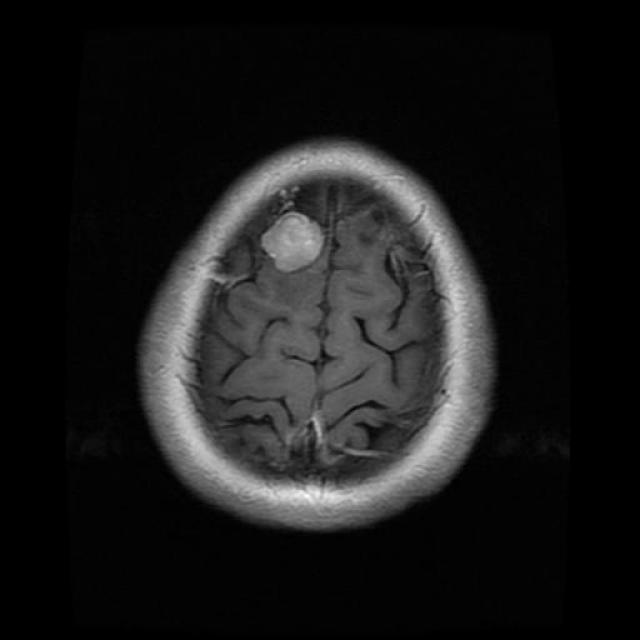Brain-Tumor: (249, 202, 331, 283)
